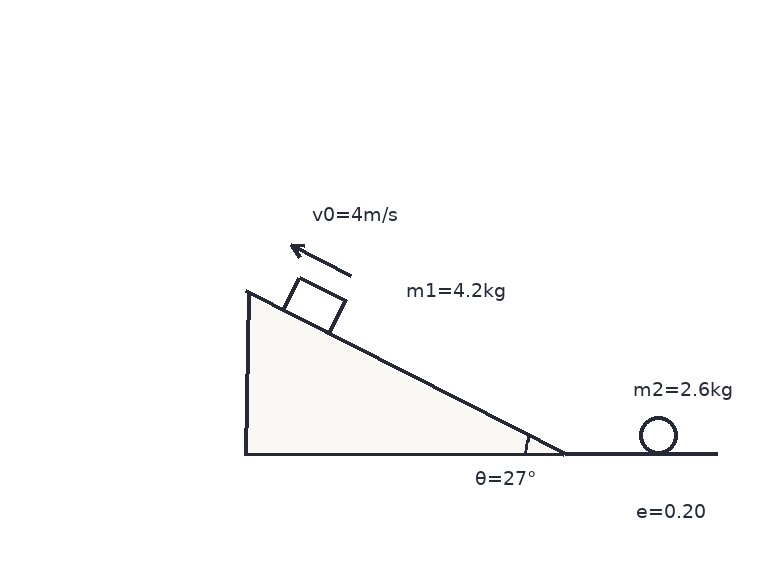ball: (637, 414, 679, 456)
block: (281, 275, 347, 335)
ramp: (245, 290, 567, 456)
